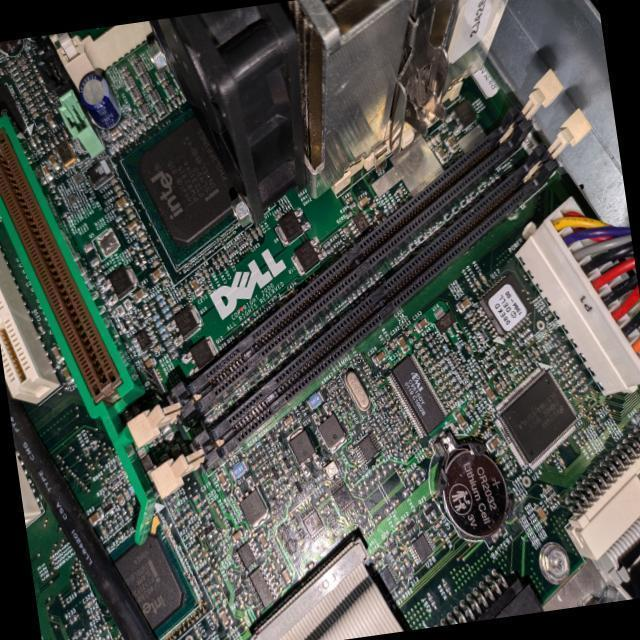CPU_Fan: (145, 0, 549, 225)
Mainboard: (0, 0, 640, 640)
